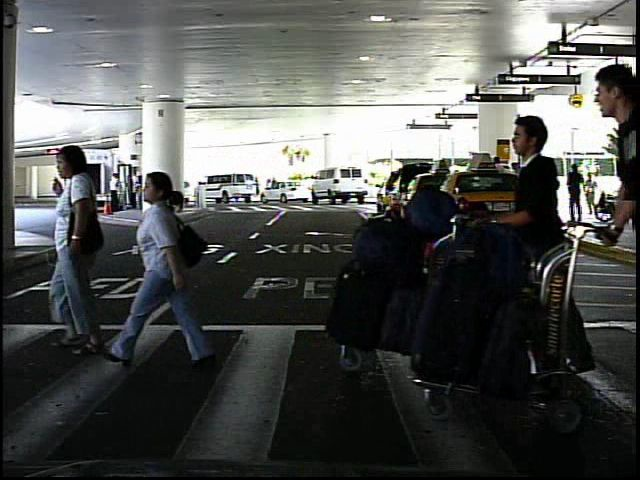person: (473, 101, 577, 394), (52, 137, 133, 358), (120, 158, 196, 382), (105, 172, 123, 222), (586, 173, 599, 215), (262, 178, 273, 204)
